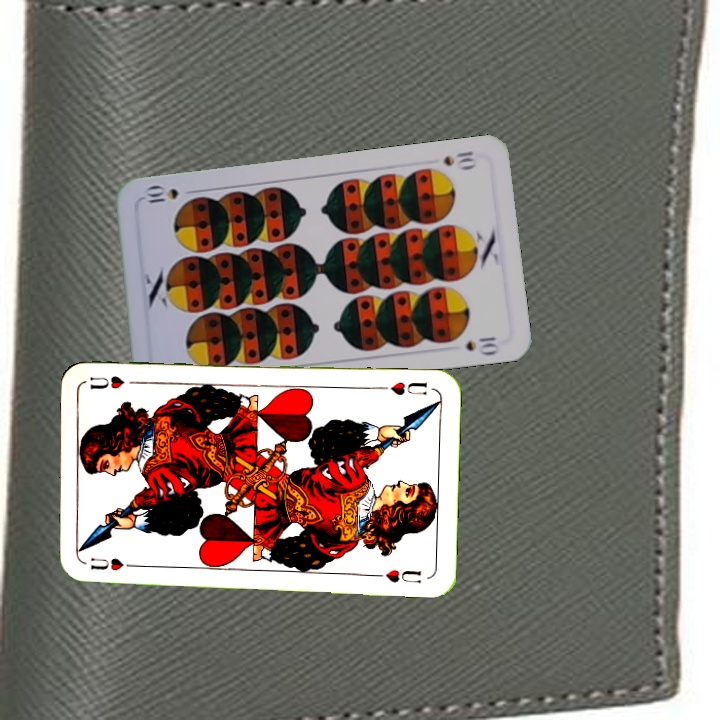HU: (376, 377, 430, 398), (86, 554, 126, 574)
S10: (438, 147, 479, 172)
